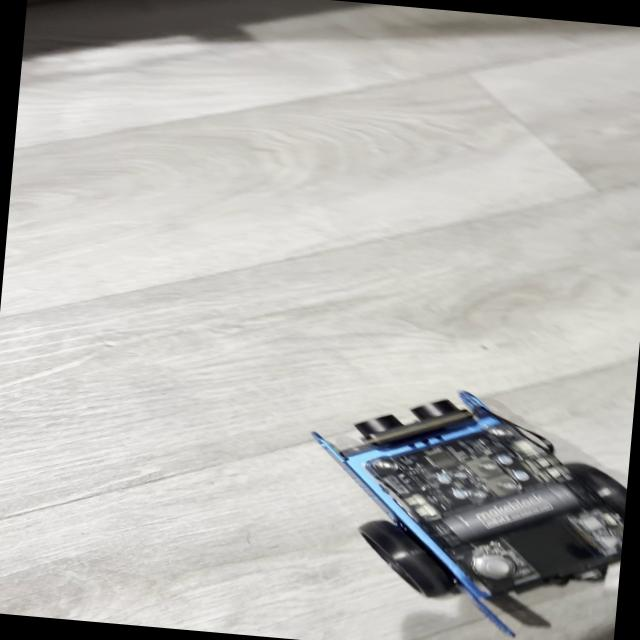mbot-detection: (284, 371, 634, 640)
